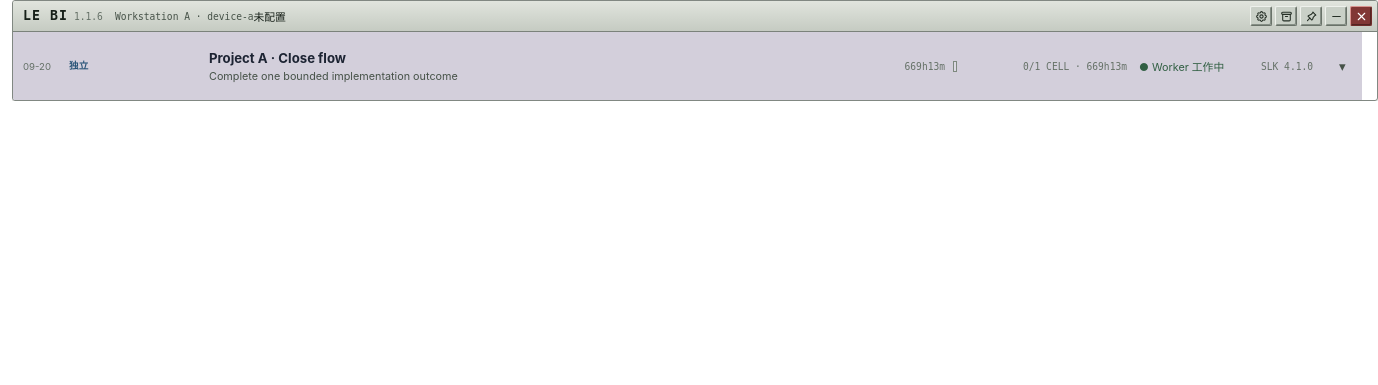
Test case: LE BI shell › shows a registered Overwatcher as a complete fourth role
The width and height of the screenshot is (1378, 385).
Click the button with aria-label "展开 Close flow": {"x": 238, "y": 58} [13,32,1362,100]
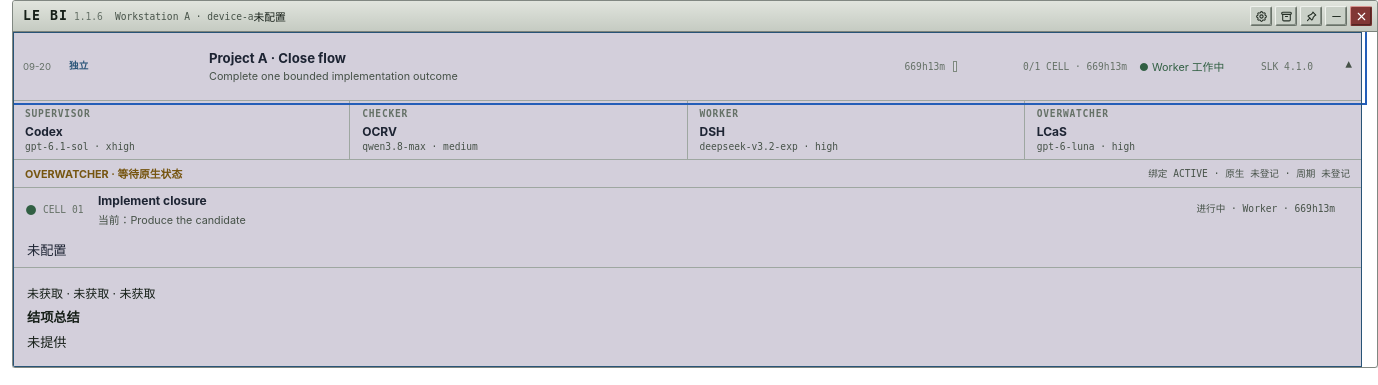
Now the text "OVERWATCHER" is shown, box [1037,108,1109,119]
Now the text "LCaS" is shown, box [1037,124,1067,138]
Now the text "gpt-6-luna" is shown, box [1037,140,1095,152]
